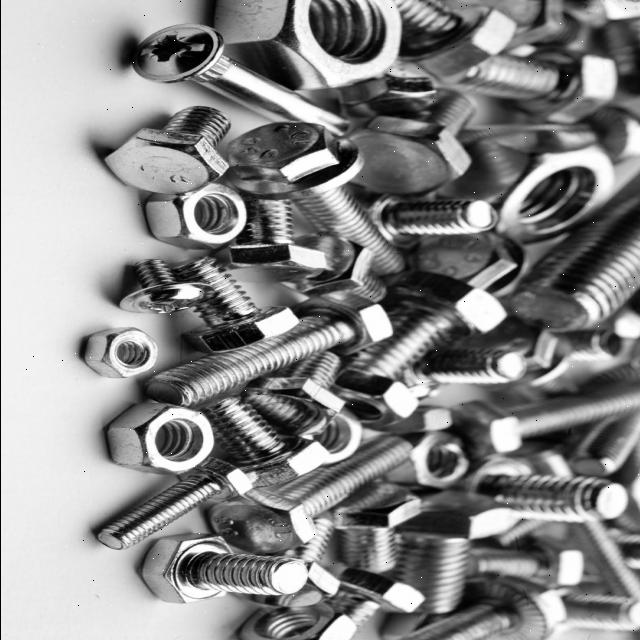Bolt: (140, 291, 394, 407), (222, 121, 406, 277), (204, 436, 410, 555), (344, 269, 508, 382), (395, 491, 520, 616), (448, 380, 640, 458), (92, 458, 250, 552), (165, 255, 297, 353), (451, 48, 615, 126), (140, 534, 308, 606), (100, 106, 232, 194), (459, 456, 626, 524), (387, 1, 515, 80)
Nut: (450, 132, 616, 248), (208, 0, 406, 96), (99, 401, 215, 478), (142, 182, 246, 252), (328, 371, 416, 430), (386, 432, 468, 491), (237, 601, 355, 640), (82, 328, 158, 378), (304, 406, 362, 464)
